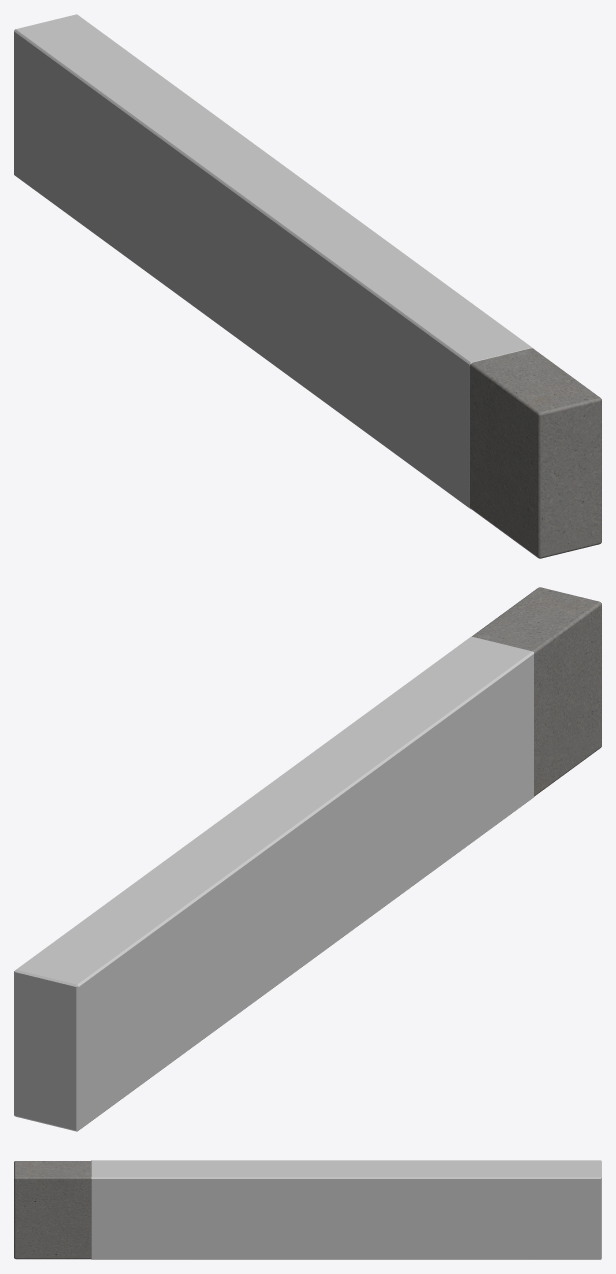
The model's file is SM_DG_HG_SteppingStone01C.fbx.
The picture shows the model from 3 angles, top to bottom: view 1: azimuth 30°, elevation 25°; view 2: azimuth 150°, elevation 25°; view 3: azimuth 270°, elevation 25°; orthographic projection. The views are drawn at different scales.
Visible parts, largest first — view 1: SM_DG_HG_SteppingStone01C_ConvexHulls, SM_DG_HG_SteppingStone01C; view 2: SM_DG_HG_SteppingStone01C_ConvexHulls, SM_DG_HG_SteppingStone01C; view 3: SM_DG_HG_SteppingStone01C_ConvexHulls, SM_DG_HG_SteppingStone01C.
Part boxes in pixels (x1,y1,x2,y2): SM_DG_HG_SteppingStone01C_ConvexHulls: (14,14,533,508); SM_DG_HG_SteppingStone01C: (469,348,601,558); SM_DG_HG_SteppingStone01C_ConvexHulls: (14,636,533,1131); SM_DG_HG_SteppingStone01C: (472,587,601,796); SM_DG_HG_SteppingStone01C_ConvexHulls: (91,1160,601,1259); SM_DG_HG_SteppingStone01C: (14,1161,91,1259).
Bounding box in the file's own units: 20.26 × 284 × 43.88.
2 materials, 1 textured.
